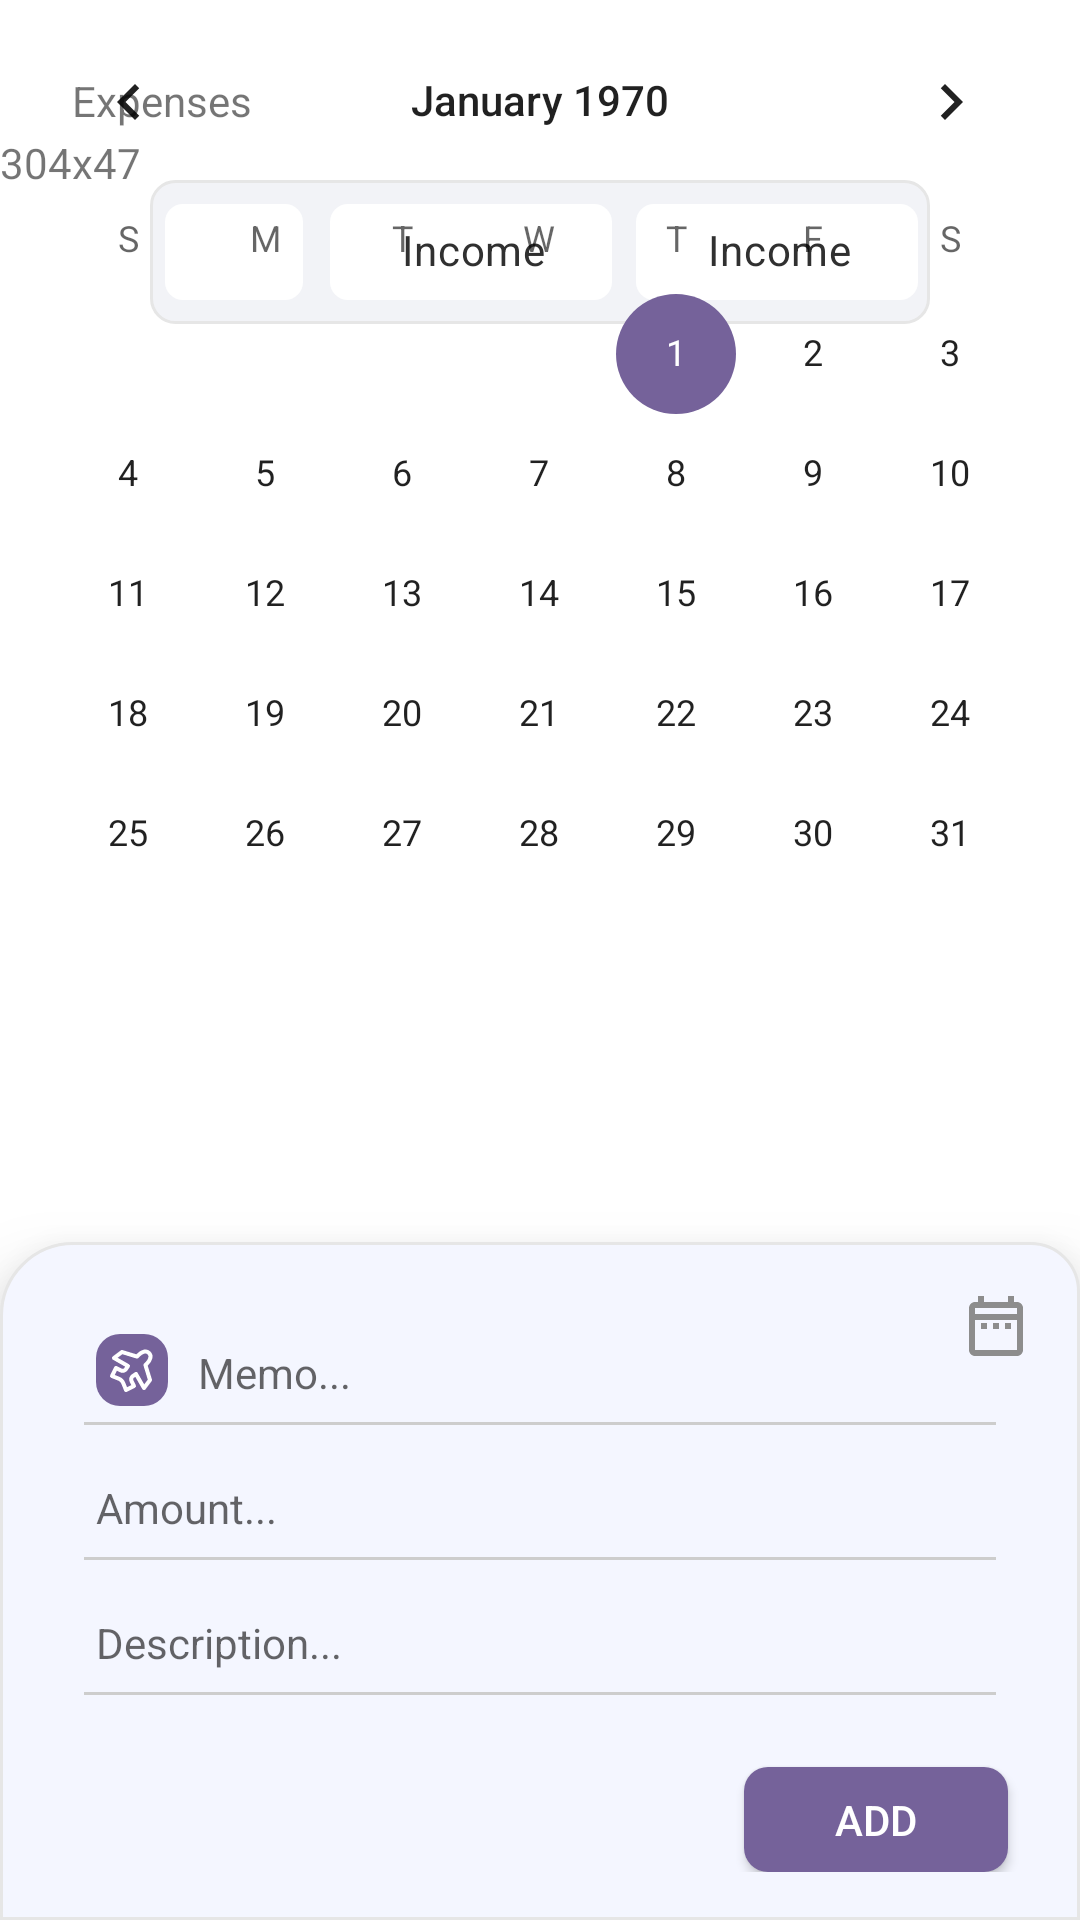

Named icons in this screenshot (1080 × 1920) and their centers, point (x, y):
akar plane: point (132, 1370)
date range: point (996, 1326)
